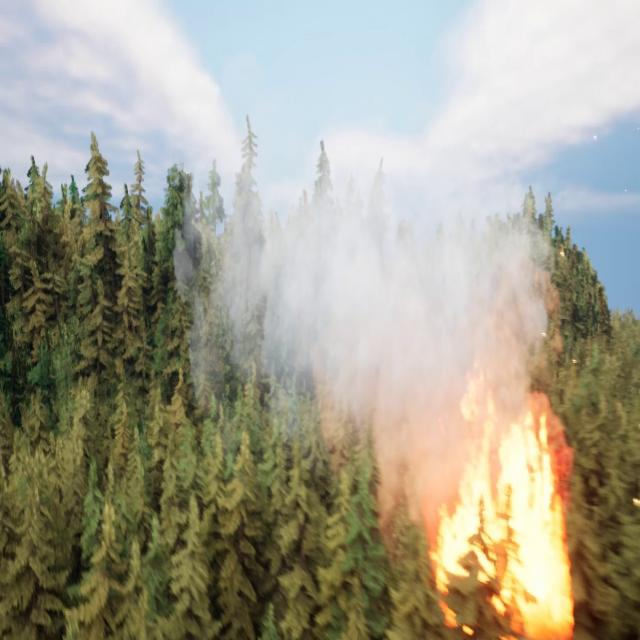fire: (430, 380, 580, 639)
smoke: (172, 99, 565, 512)
